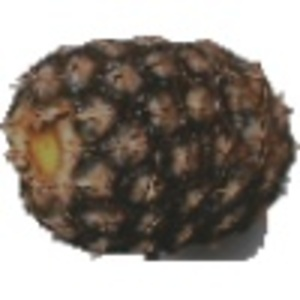abacaxi: (10, 31, 294, 260)
